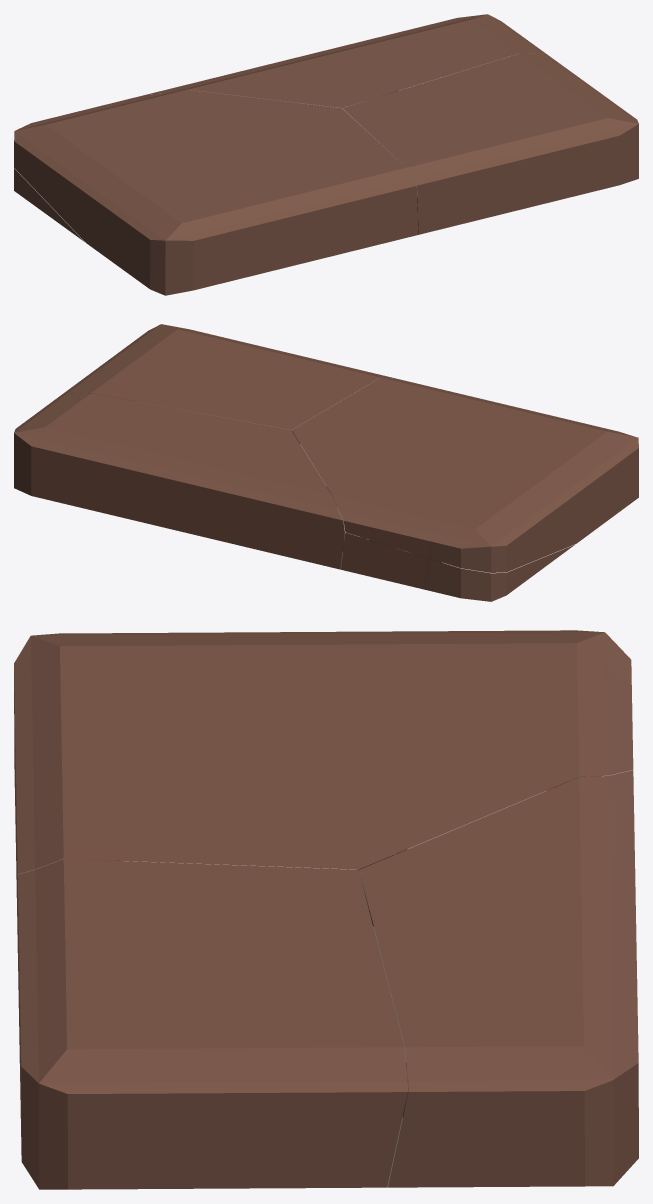
File: Sofa_Dem_DEST.fbx
3 renders of one model, top to bottom at view 1: azimuth 30°, elevation 25°; view 2: azimuth 150°, elevation 25°; view 3: azimuth 270°, elevation 25°, orthographic. The views are drawn at different scales.
Visible parts, largest first — view 1: model:mesh1946565987_cell.003, model:mesh1946565987_cell.002, model:mesh1946565987_cell.001, model:mesh1946565987_cell; view 2: model:mesh1946565987_cell.003, model:mesh1946565987_cell.001, model:mesh1946565987_cell.002, model:mesh1946565987_cell; view 3: model:mesh1946565987_cell.003, model:mesh1946565987_cell.002, model:mesh1946565987_cell.001.
Boxes of the visible parts, box(x1,y1,x2,y2) form: model:mesh1946565987_cell.003: box(14, 89, 418, 295); model:mesh1946565987_cell.002: box(342, 53, 638, 234); model:mesh1946565987_cell.001: box(148, 14, 546, 108); model:mesh1946565987_cell: box(14, 168, 85, 242); model:mesh1946565987_cell.003: box(292, 377, 638, 572); model:mesh1946565987_cell.001: box(14, 393, 344, 569); model:mesh1946565987_cell.002: box(61, 324, 392, 430); model:mesh1946565987_cell: box(340, 532, 575, 601); model:mesh1946565987_cell.003: box(14, 630, 633, 970); model:mesh1946565987_cell.002: box(17, 859, 407, 1189); model:mesh1946565987_cell.001: box(359, 770, 638, 1187).
Bounding box in the file's own units: 3.58 × 0.4921 × 2.05.
